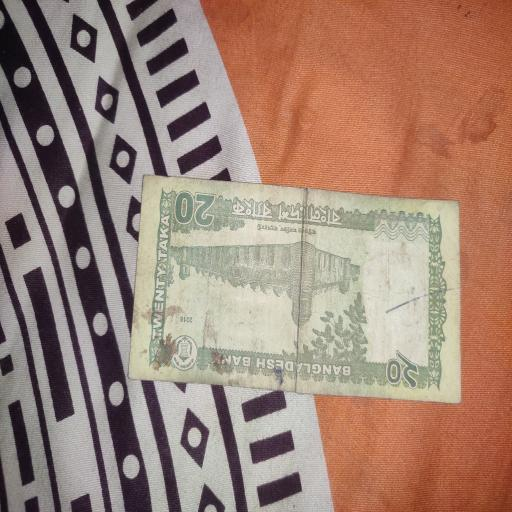20taka: (145, 173, 467, 412)
